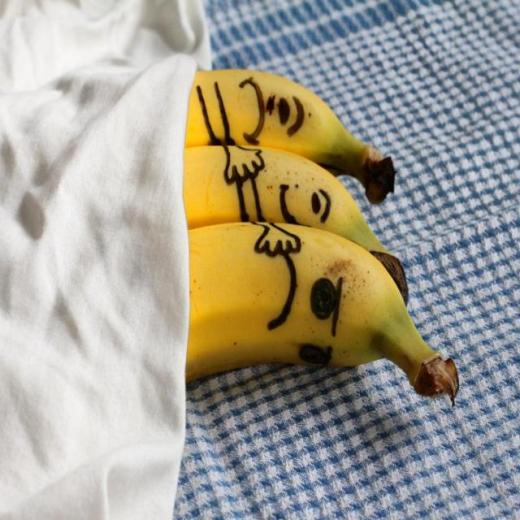Banana: (183, 224, 461, 409), (183, 141, 408, 303), (186, 71, 396, 204)
